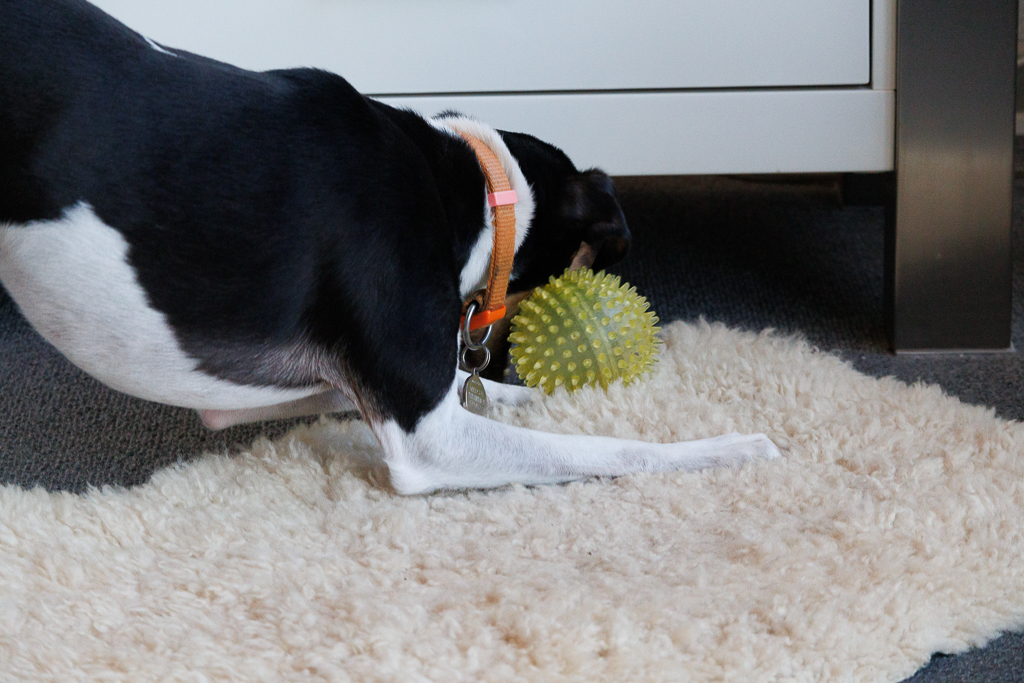Dog: (0, 0, 792, 509)
